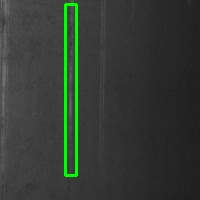scratches: (65, 4, 76, 175), (97, 1, 108, 161)
